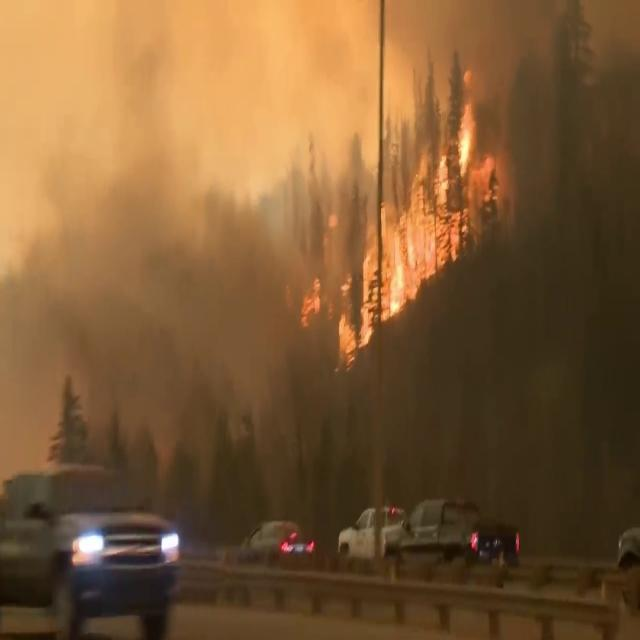Fire: (330, 56, 500, 348)
Smoke: (0, 0, 334, 463), (440, 3, 640, 422)
